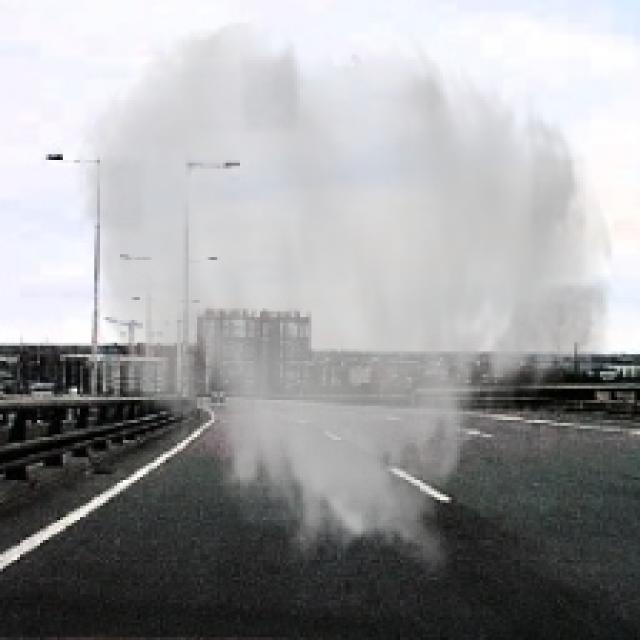Smoke: (71, 17, 620, 577)
